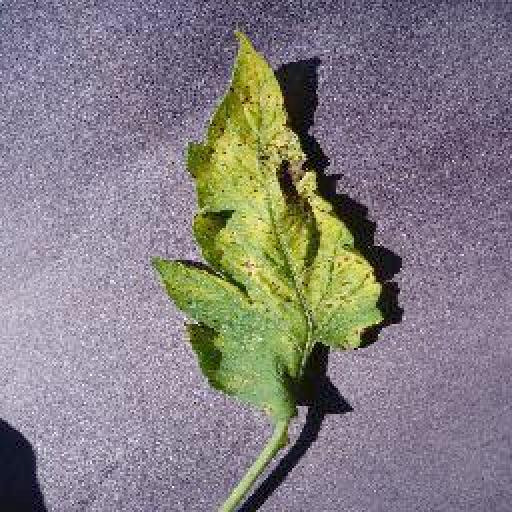disease_tomato: (159, 30, 384, 432)
